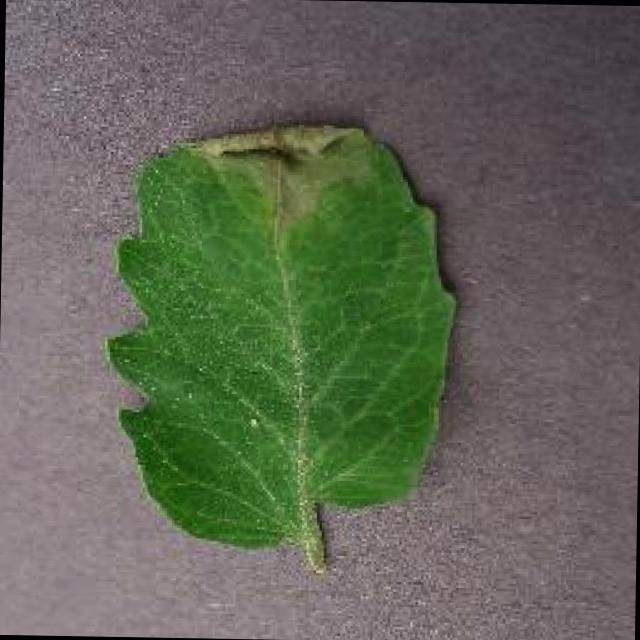Tomato late blight leaf: (96, 110, 458, 560)
